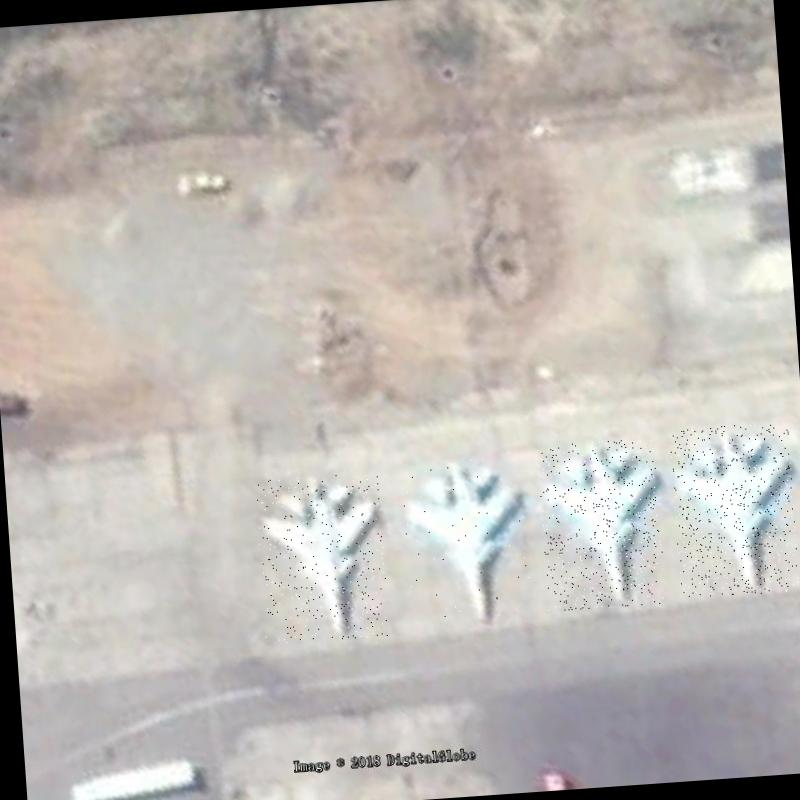A19: (668, 421, 800, 599), (254, 472, 390, 644), (400, 456, 532, 629), (536, 438, 665, 612)
